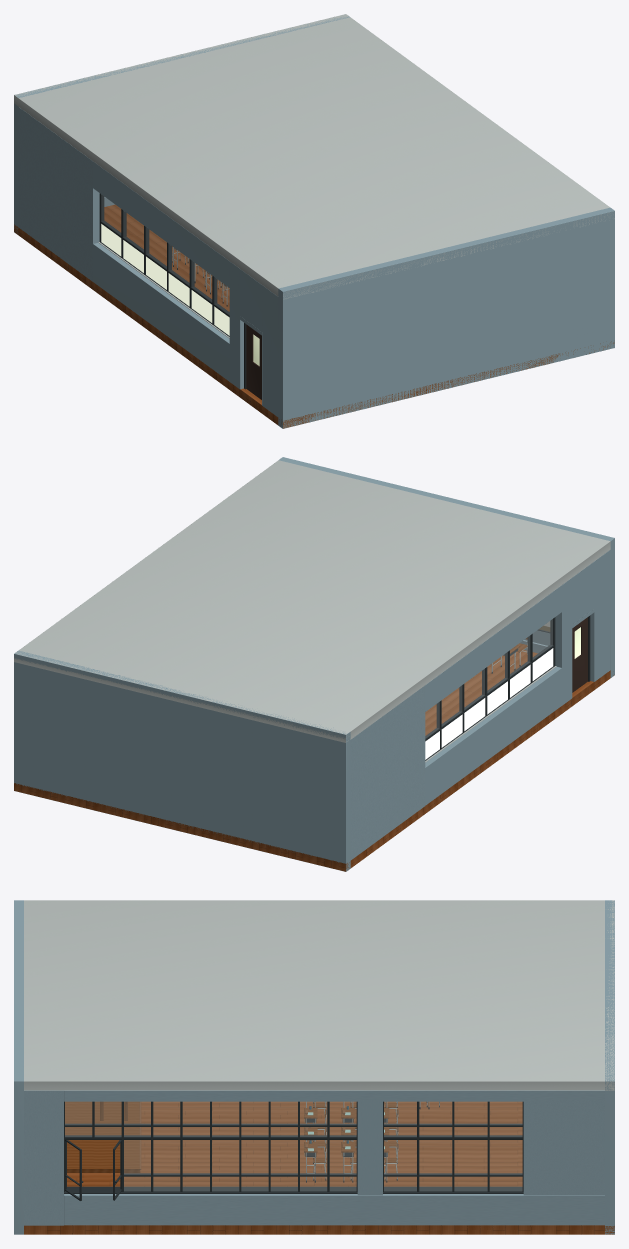
File: classroom-complete-room.glb
3 views of the same model, one above another, from view 1: azimuth 30°, elevation 25°; view 2: azimuth 150°, elevation 25°; view 3: azimuth 270°, elevation 25° (orthographic). The views are drawn at different scales.
Visible parts, largest first — view 1: Ceiling plaster slab, Front pale blue plaster wall, FULLROOM inferred right rear wall, Continuous wood plank floor, Right window sill wall, Right window upper wall, Right wall front door-side pier, INFERRED rear extent plain wall, Right wall door-to-window pier, Right wall doorway lintel, Observed dark door leaf, Observed right-window continuous bar.001 (+3 smaller); view 2: Ceiling plaster slab, INFERRED rear extent plain wall, FULLROOM inferred right rear wall, Continuous wood plank floor, Right window sill wall, Right window upper wall, Front pale blue plaster wall, Right wall front door-side pier, Right wall door-to-window pier, Right wall doorway lintel, Observed dark door leaf, Observed right-window continuous bar.001 (+4 smaller); view 3: Ceiling plaster slab, Continuous wood plank floor, V3 left sill wall, FULLROOM inferred rear pier outer return, V3 left upper spandrel, FULLROOM inferred left front backing, Front raised wooden podium, Front pale blue plaster wall, INFERRED rear extent plain wall, FULLROOM inferred central pier outer return, V3 front sill ledge, V3 front horizontal 2 (+36 smaller).
Boxes of the visible parts, box(x1,y1,x2,y2) form: Ceiling plaster slab: box(14, 14, 614, 299); Front pale blue plaster wall: box(278, 207, 614, 428); FULLROOM inferred right rear wall: box(18, 107, 99, 281); Continuous wood plank floor: box(14, 204, 614, 428); Right window sill wall: box(93, 242, 229, 381); Right window upper wall: box(93, 161, 229, 287); Right wall front door-side pier: box(262, 285, 278, 416); INFERRED rear extent plain wall: box(14, 16, 349, 233); Right wall door-to-window pier: box(229, 261, 243, 389); Right wall doorway lintel: box(240, 269, 262, 331); Observed dark door leaf: box(246, 324, 261, 399); Observed right-window continuous bar.001: box(100, 220, 229, 317); Ceiling plaster slab: box(14, 460, 610, 742); INFERRED rear extent plain wall: box(14, 650, 350, 871); FULLROOM inferred right rear wall: box(350, 685, 425, 860); Continuous wood plank floor: box(14, 650, 614, 871); Right window sill wall: box(425, 666, 561, 805); Right window upper wall: box(425, 585, 561, 711); Front pale blue plaster wall: box(279, 457, 614, 677); Right wall front door-side pier: box(590, 550, 610, 681); Right wall door-to-window pier: box(555, 578, 572, 705); Right wall doorway lintel: box(571, 562, 594, 624); Observed dark door leaf: box(572, 617, 587, 692); Observed right-window continuous bar.001: box(425, 644, 554, 741); Ceiling plaster slab: box(24, 900, 614, 1090); Continuous wood plank floor: box(24, 1101, 614, 1234); V3 left sill wall: box(64, 1194, 604, 1225); FULLROOM inferred rear pier outer return: box(523, 1100, 604, 1195); V3 left upper spandrel: box(64, 1090, 604, 1101); FULLROOM inferred left front backing: box(24, 1090, 63, 1225); Front raised wooden podium: box(65, 1101, 140, 1172); Front pale blue plaster wall: box(14, 900, 23, 1234); INFERRED rear extent plain wall: box(605, 900, 614, 1234); FULLROOM inferred central pier outer return: box(357, 1100, 382, 1195); V3 front sill ledge: box(64, 1186, 357, 1193); V3 front horizontal 2: box(65, 1135, 357, 1139).
Size of the model in its own units: 8.82 by 3.35 by 11.9.
37 materials, 6 textured.
